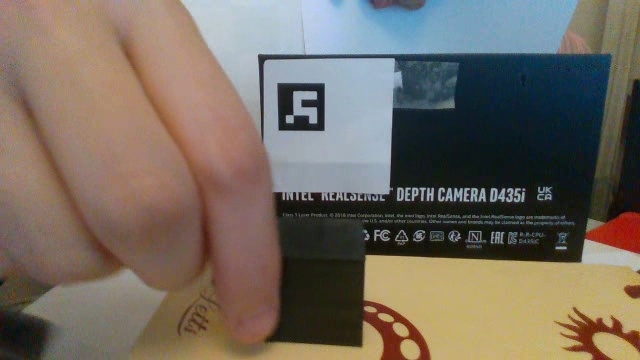cube: (252, 211, 374, 353)
